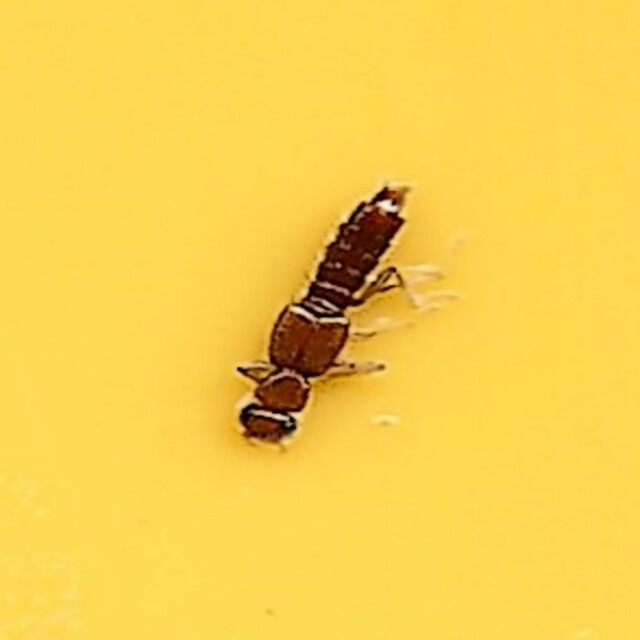Coleoptera: (218, 178, 422, 462)
